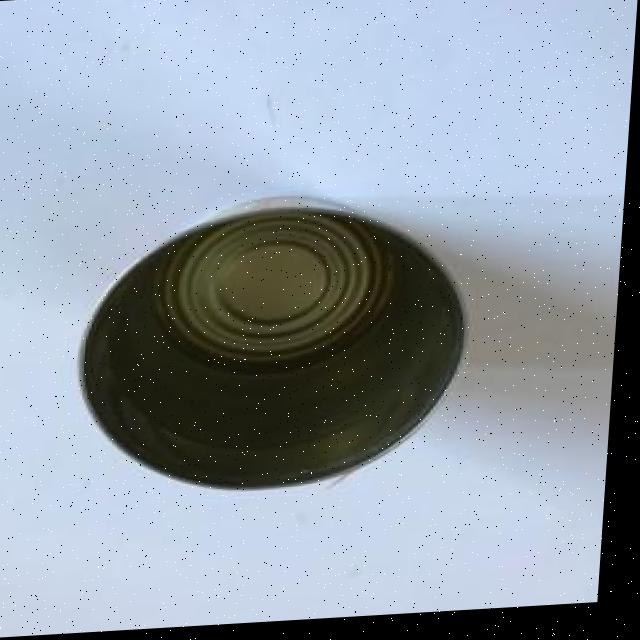metal: (67, 184, 482, 505)
